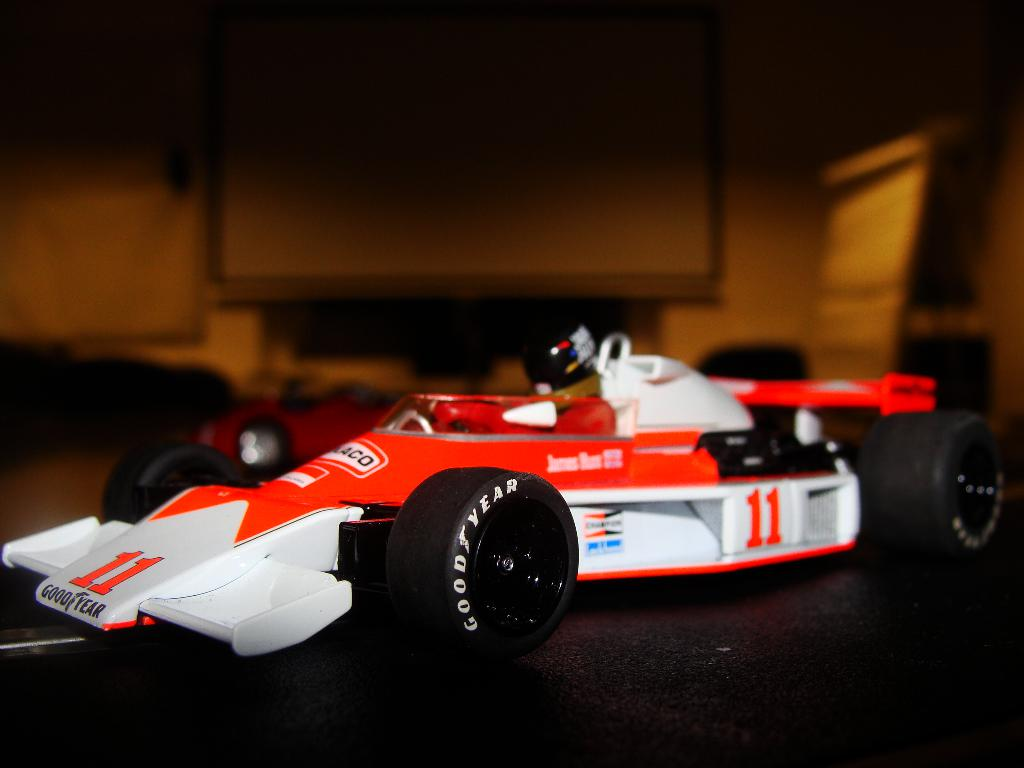Car: (1, 325, 1023, 671), (193, 362, 407, 480)
